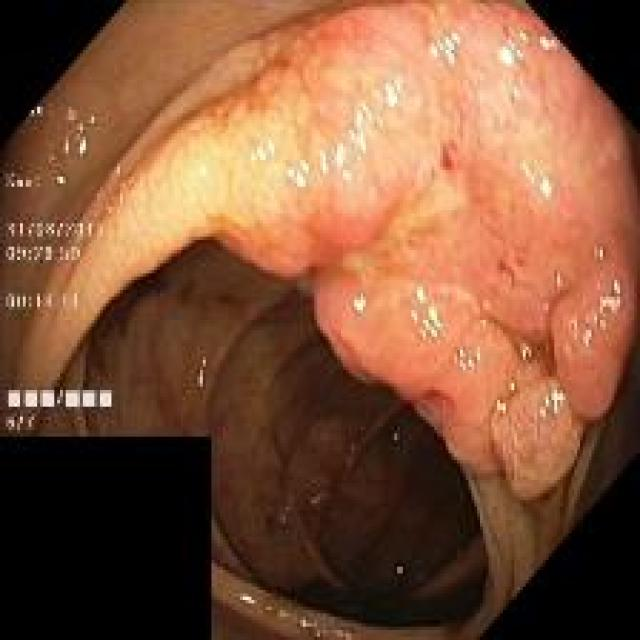Polyps: (312, 267, 541, 475), (550, 262, 638, 421), (491, 379, 585, 501)
